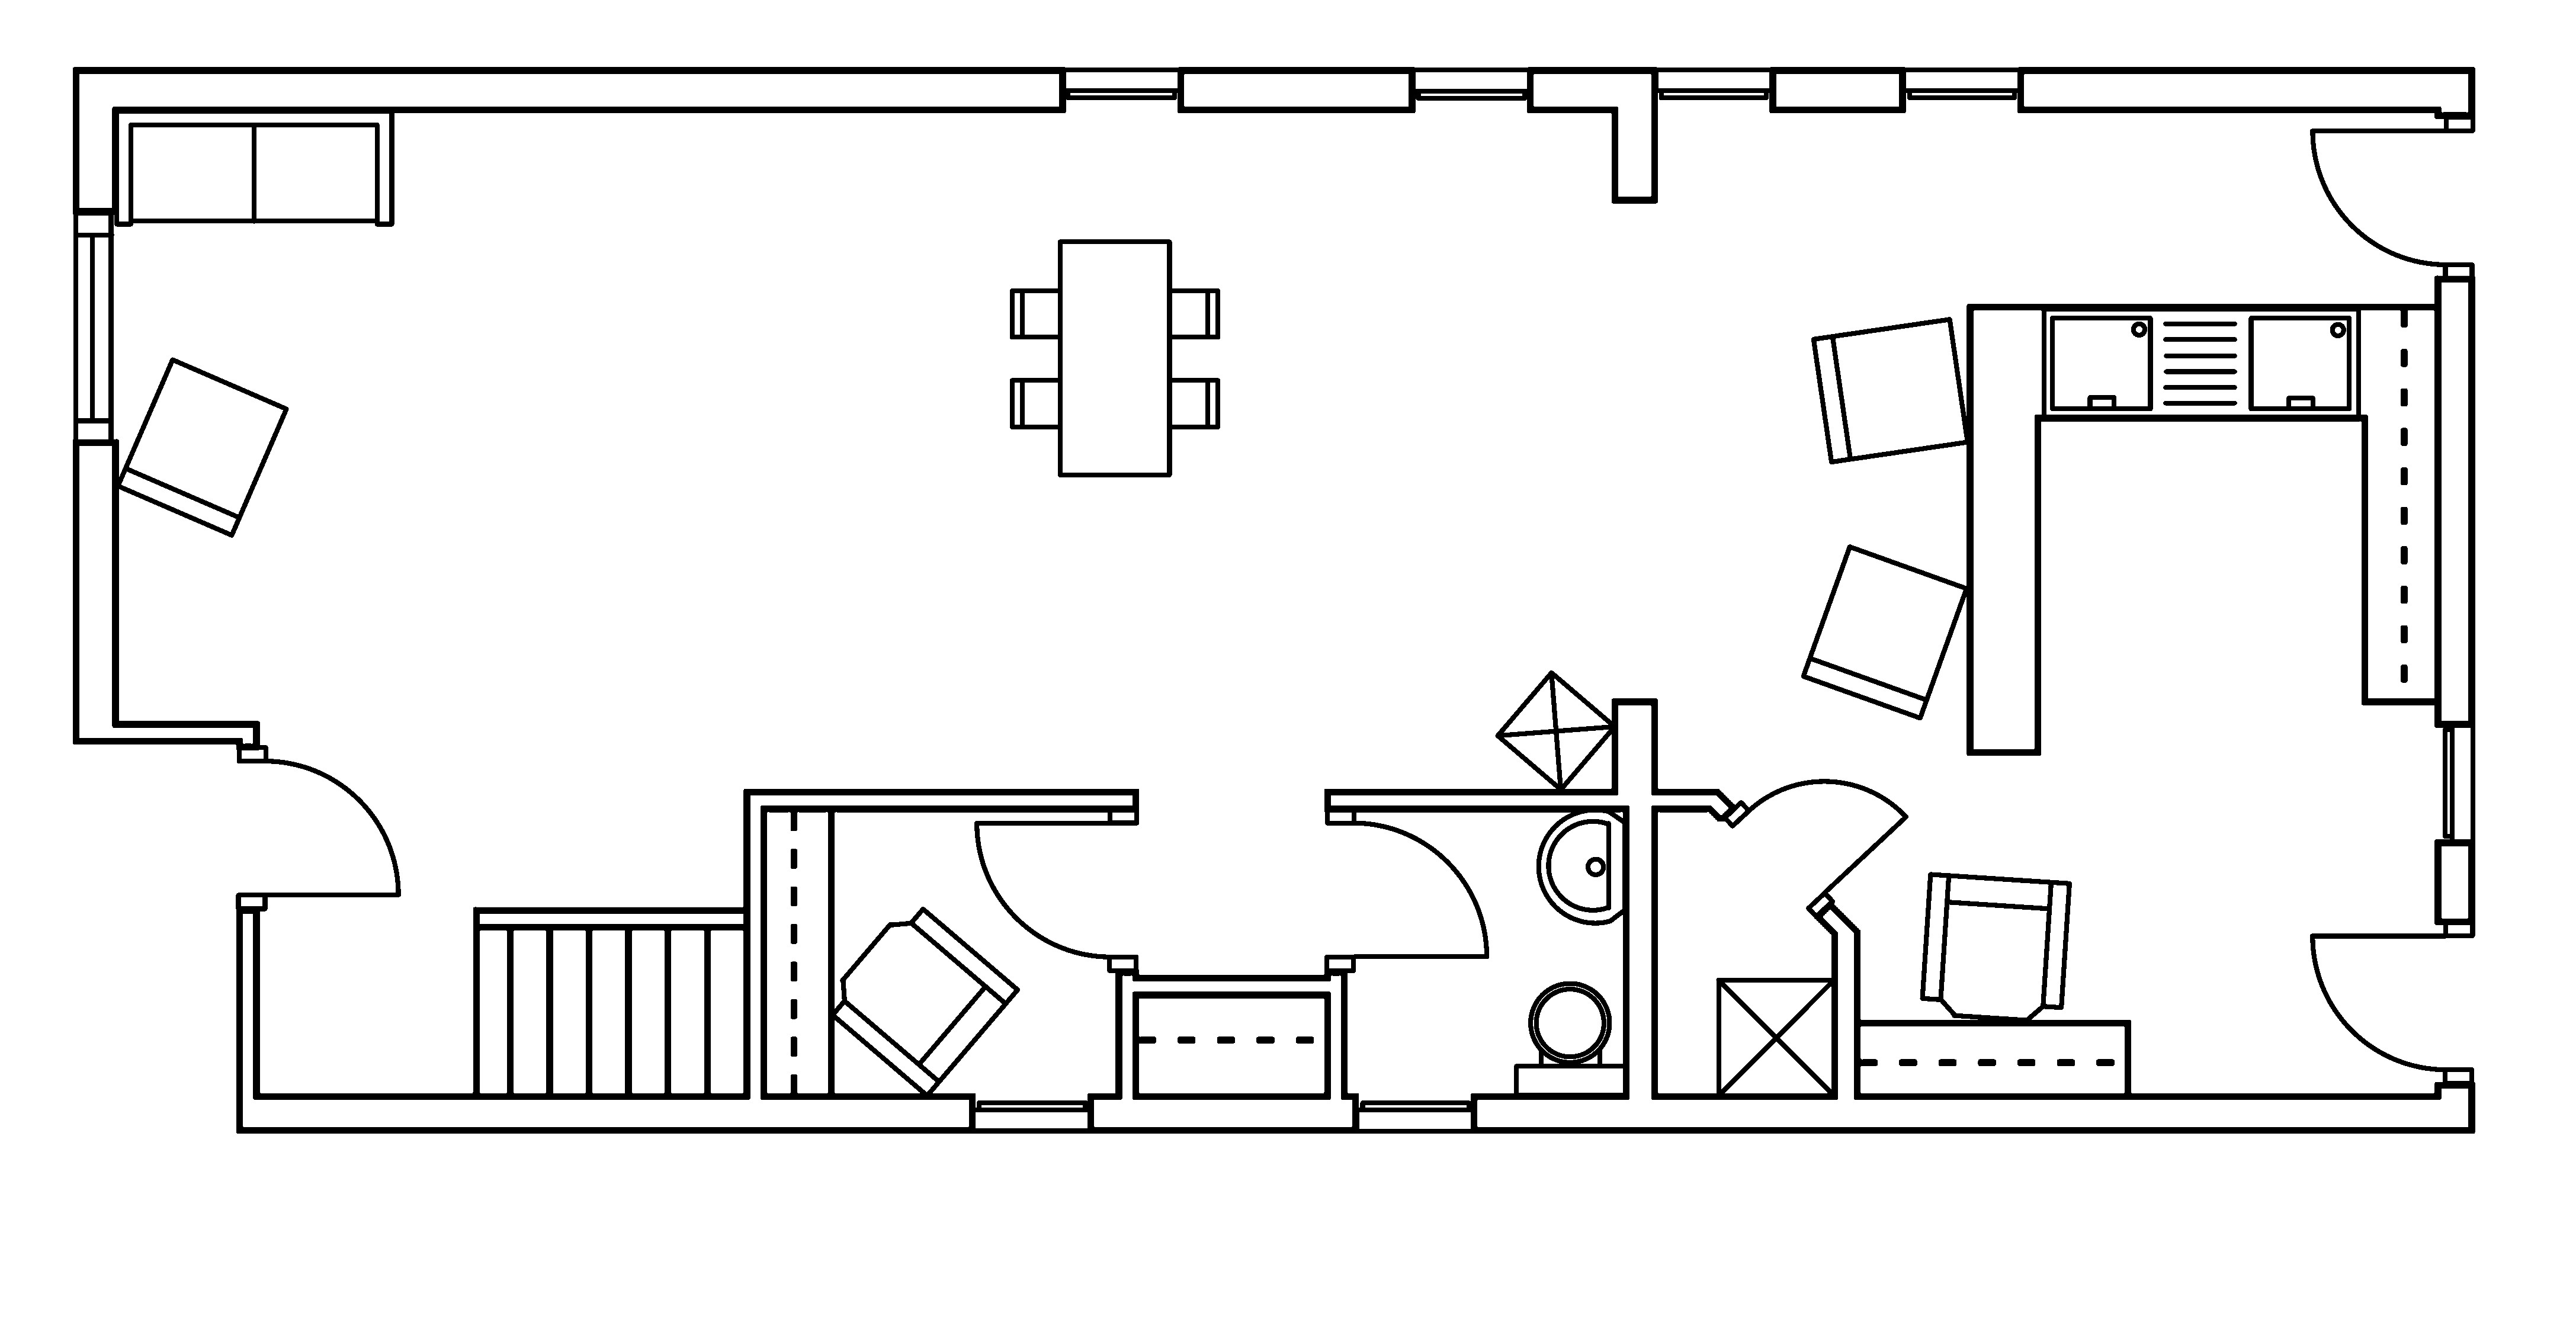armchair: (829, 905, 1021, 1099), (1919, 871, 2072, 1023)
coffee_table: (1493, 670, 1618, 792), (1715, 976, 1836, 1099)
dining_table: (1009, 239, 1221, 478)
large_sink: (1513, 981, 1628, 1097)
large_sofa: (113, 108, 395, 227)
small_sink: (1535, 808, 1628, 925)
small_sofa: (114, 357, 289, 538), (1799, 543, 1969, 720), (1811, 316, 1971, 464)
twin_sink: (2040, 305, 2361, 421)
